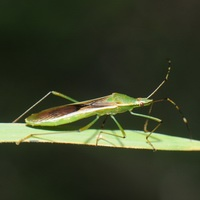insect: (13, 60, 181, 150)
